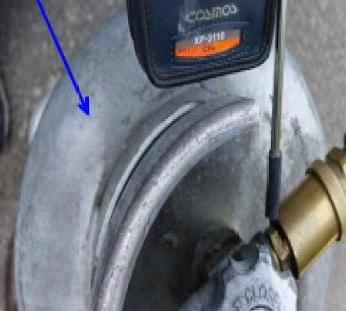cylinder: (1, 0, 346, 311)
